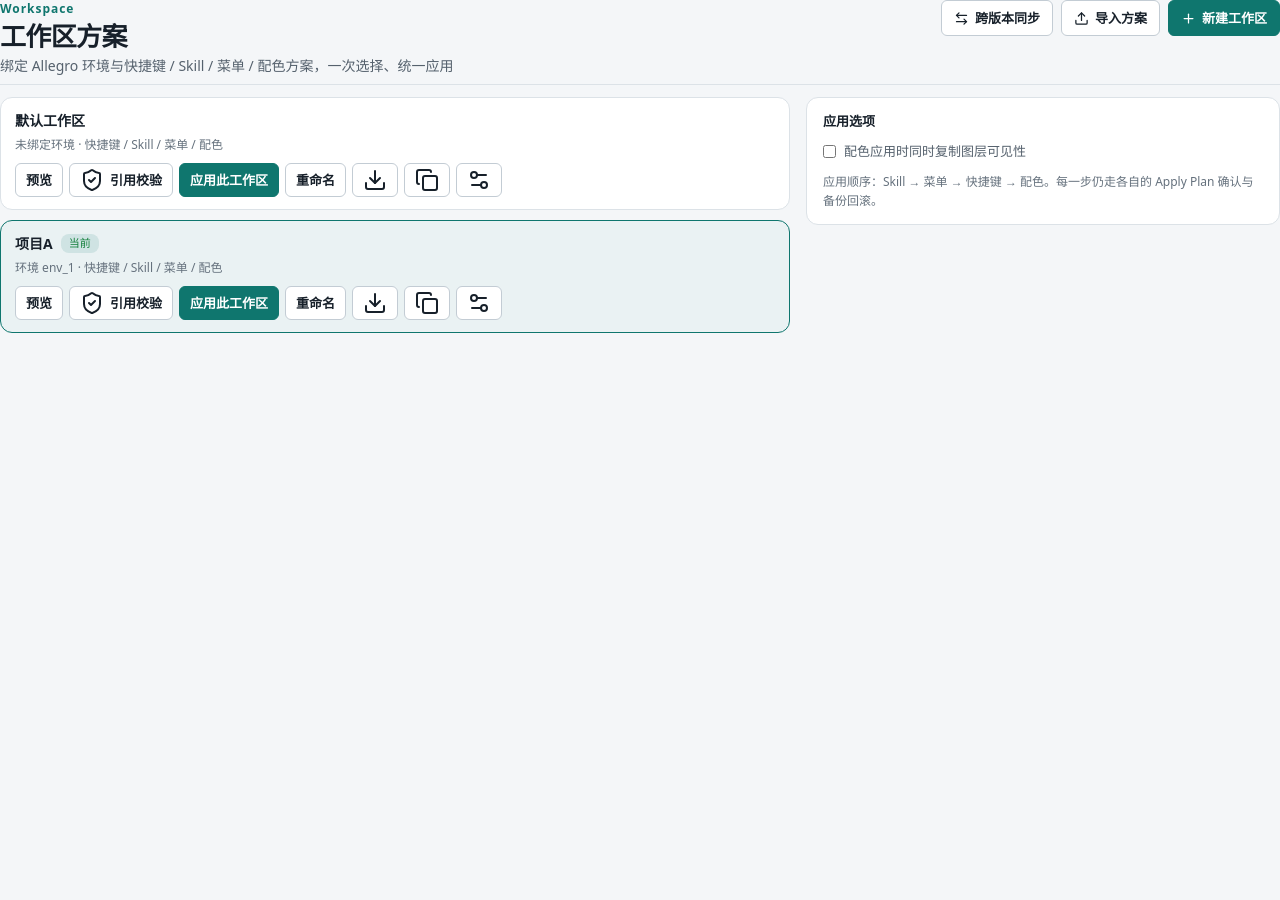
Test: UnifiedWorkspacePage › 引用校验展示跨模块命令告警
This screenshot has width=1280, height=900.
Click the button with aria-label "引用校验 项目A".
click(121, 303)  # box [69, 286, 173, 320]
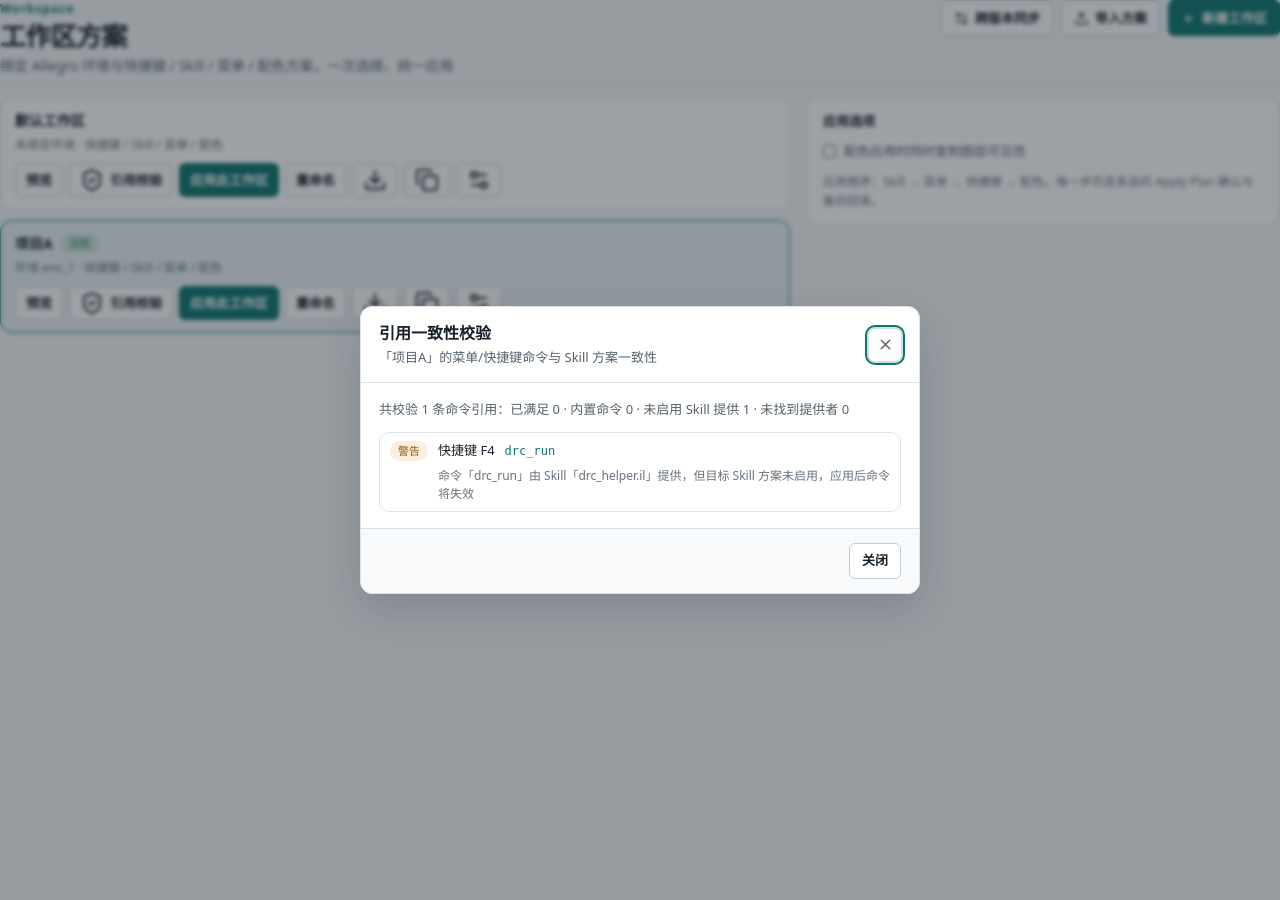
Result: the dialog "引用一致性校验" is shown at [360, 306, 920, 594]
Result: the text "快捷键 F4" is shown at [438, 441, 495, 460]
Result: the text "命令「drc_run」由 Skill「drc_helper.il」提供，但目标 Skill 方案未启用，应用后命令将失效" is shown at [438, 467, 890, 503]
